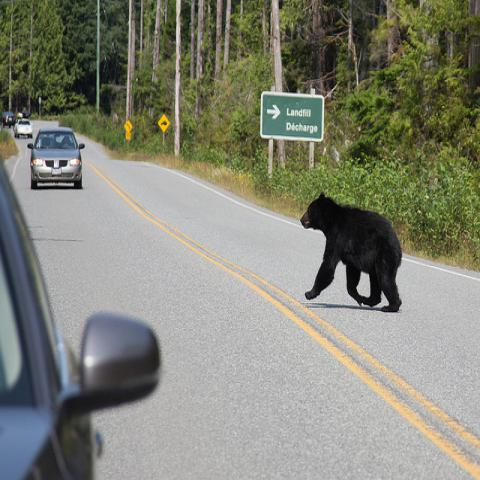car: (0, 152, 162, 475), (29, 126, 83, 191), (13, 118, 33, 138), (2, 112, 15, 128), (22, 112, 30, 118)
